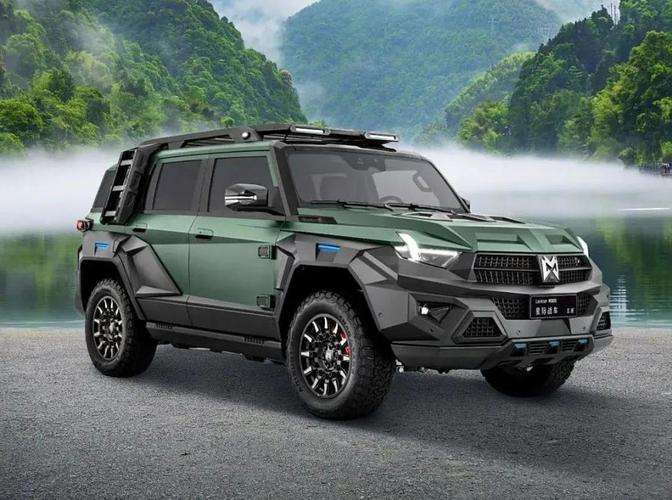汽车: (71, 121, 618, 426)
